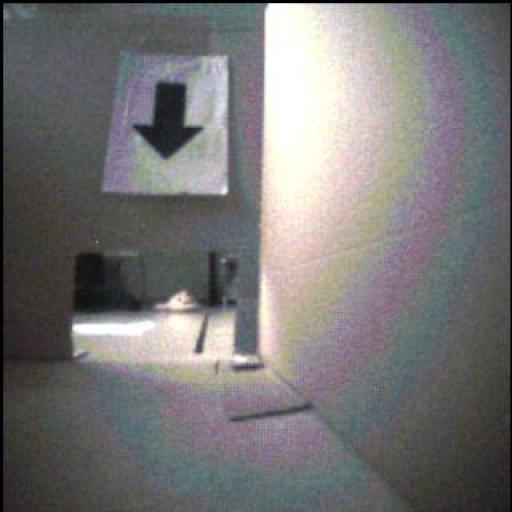arrow: (134, 83, 204, 160)
